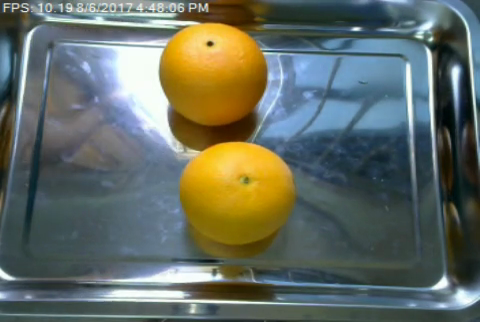Orange: (179, 139, 296, 244), (158, 22, 269, 124)
